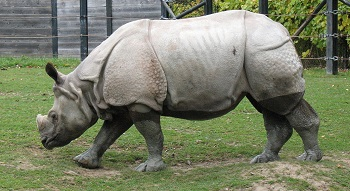rhinoceros: (34, 7, 322, 171)
